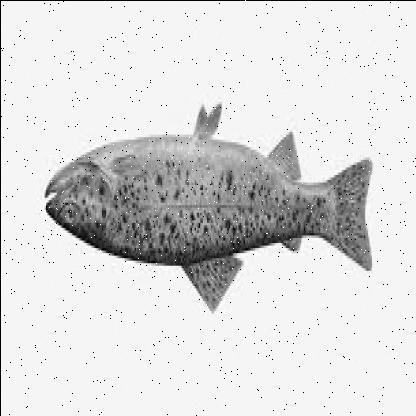fish: (45, 101, 373, 320)
